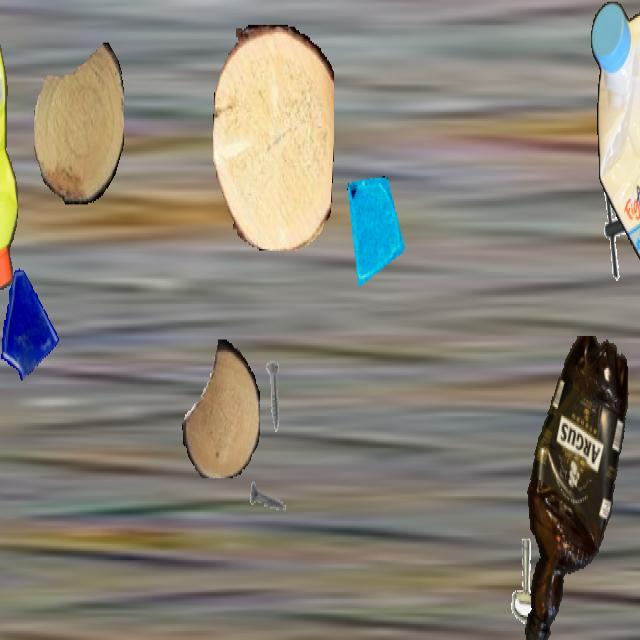glass: (344, 176, 408, 290), (0, 263, 61, 381)
metal: (501, 532, 557, 631), (593, 176, 640, 283), (253, 359, 295, 434), (249, 459, 291, 533)
plastic: (515, 336, 635, 638), (591, 2, 640, 311), (0, 2, 19, 290)
wood: (213, 25, 333, 249), (34, 41, 124, 204), (182, 340, 260, 478)
